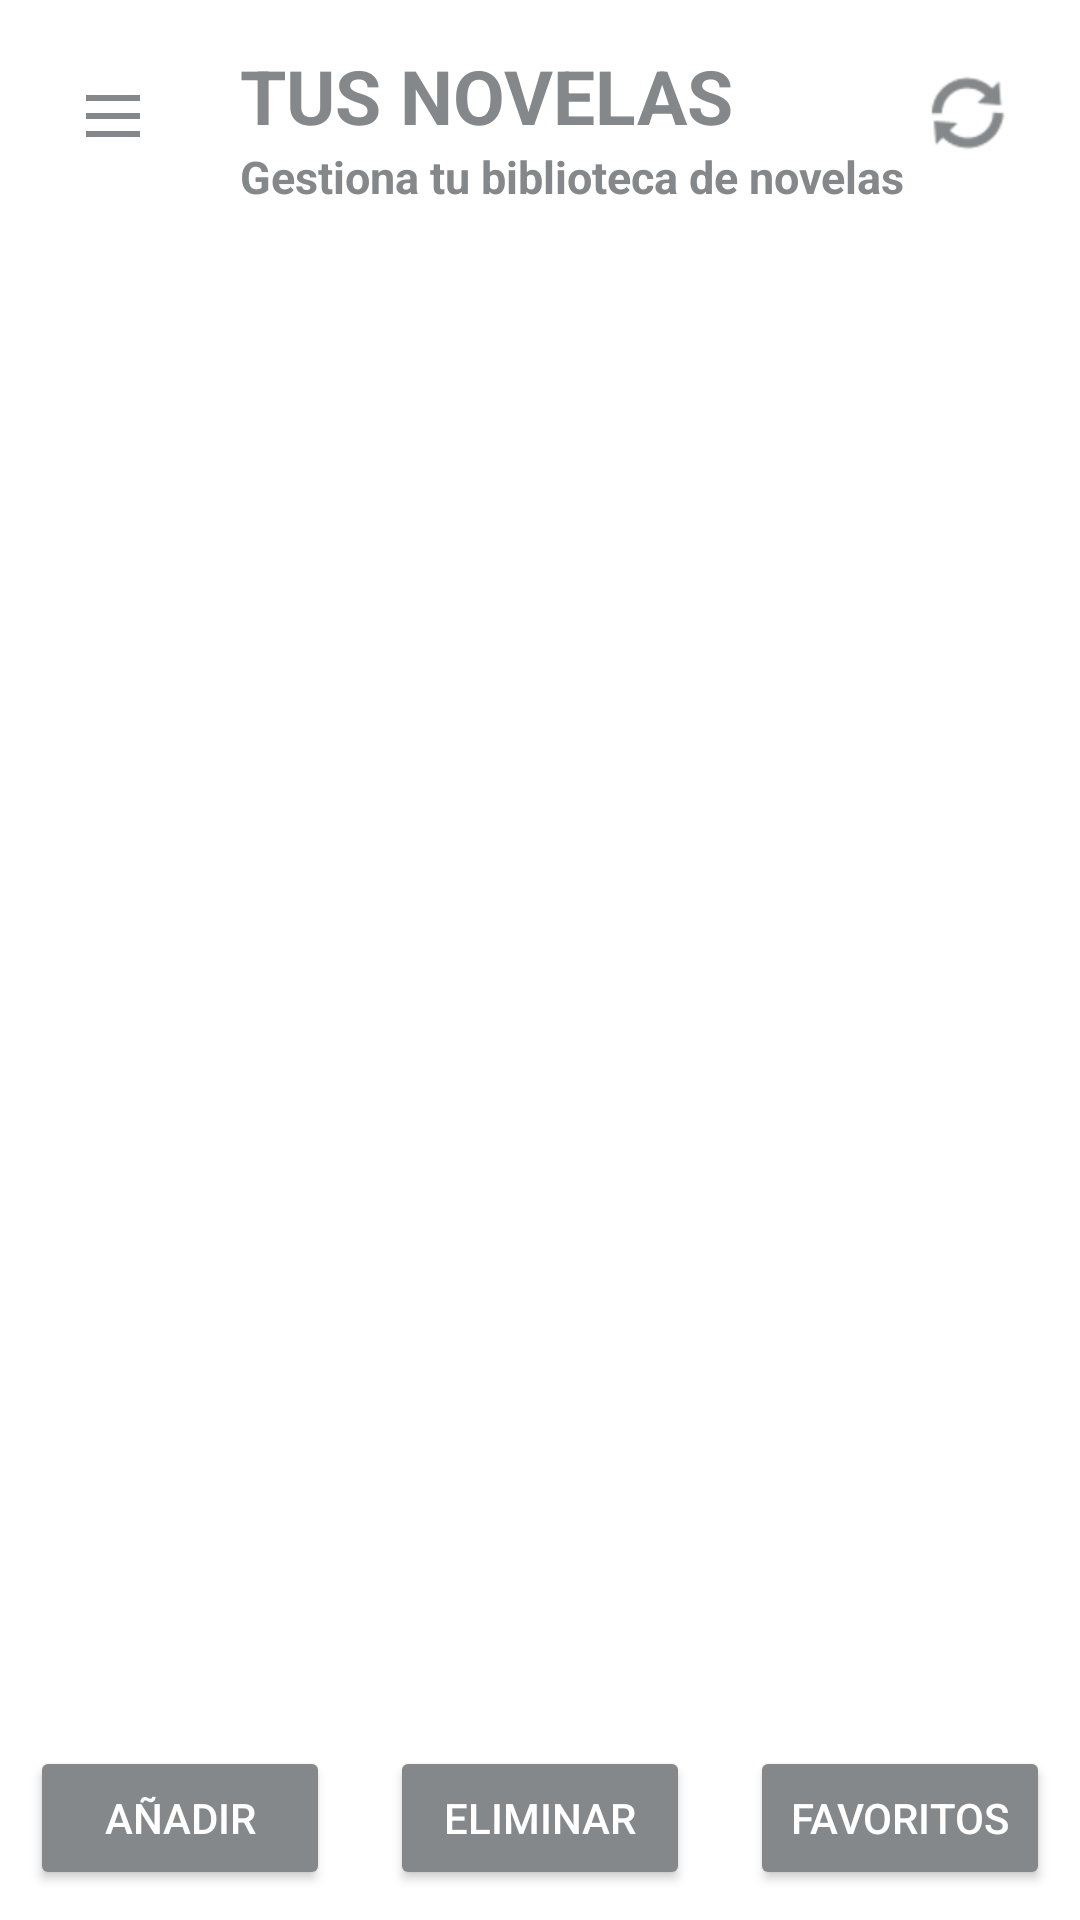

Screen size 1080x1920. Icon name, then its center in pixels as (x,y):
Menu: (113,116)
